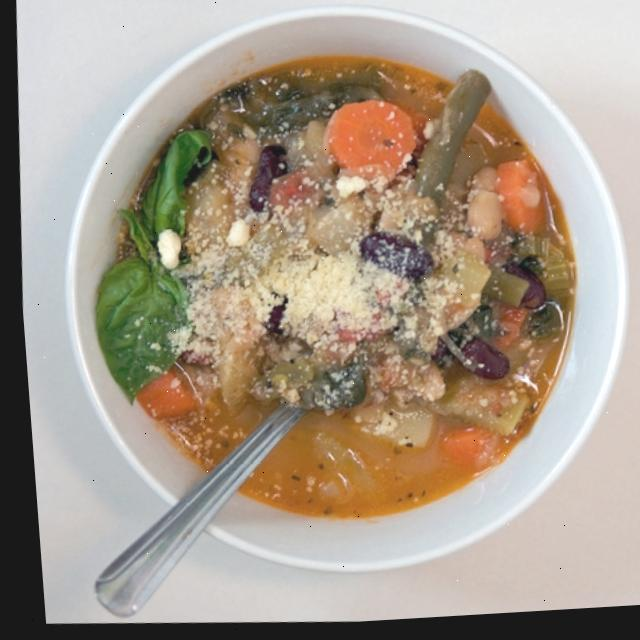汤锅炖物: (51, 6, 630, 585)
